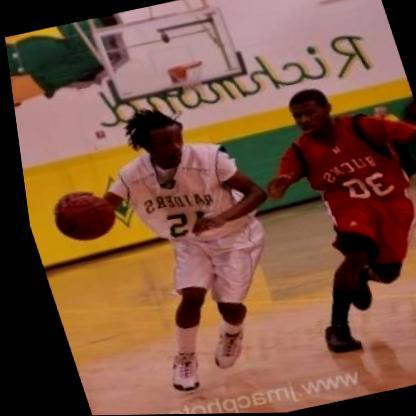basketball: (39, 186, 116, 246)
